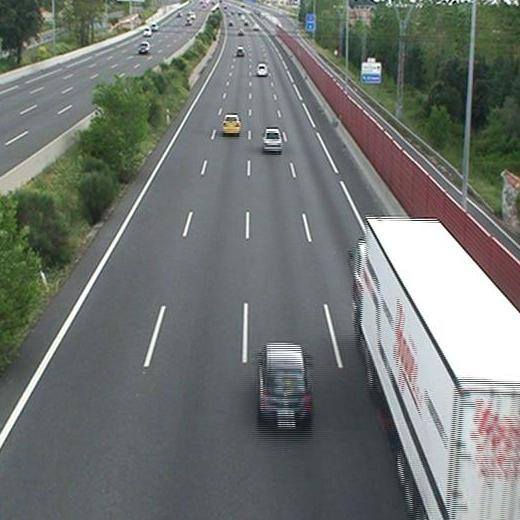car: (258, 344, 311, 424), (263, 129, 282, 150), (223, 116, 240, 133), (256, 63, 267, 77), (235, 48, 244, 56)
truck: (357, 216, 520, 520)
